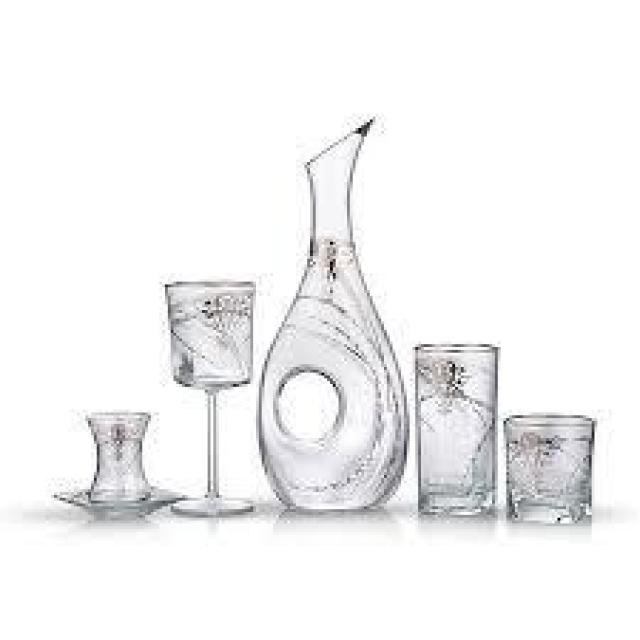Glass: (256, 122, 410, 512), (162, 282, 256, 518), (412, 341, 501, 521), (162, 282, 259, 418), (503, 412, 597, 529), (82, 410, 154, 512)
